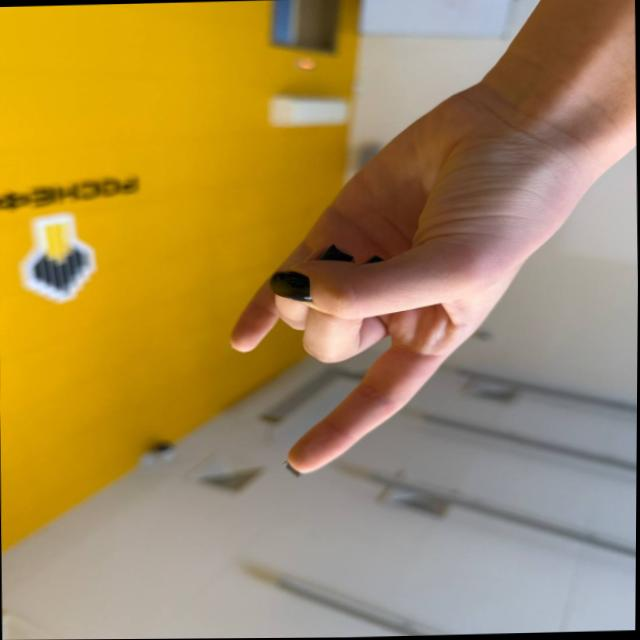y: (210, 126, 498, 494)
